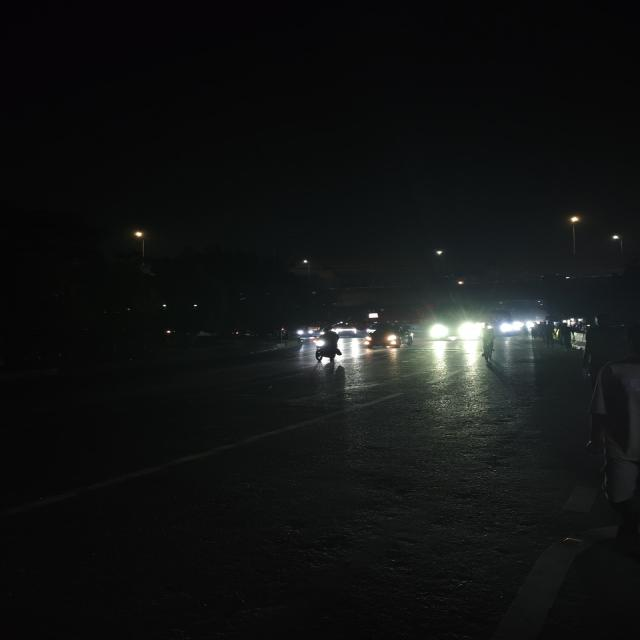bicycle: (479, 324, 496, 364)
bus: (587, 358, 640, 496), (430, 302, 477, 342), (485, 309, 522, 337)
car: (363, 325, 418, 351), (334, 322, 362, 340)
motorcycle: (310, 328, 346, 368)
pedestrian: (556, 319, 576, 352), (537, 321, 552, 348)
